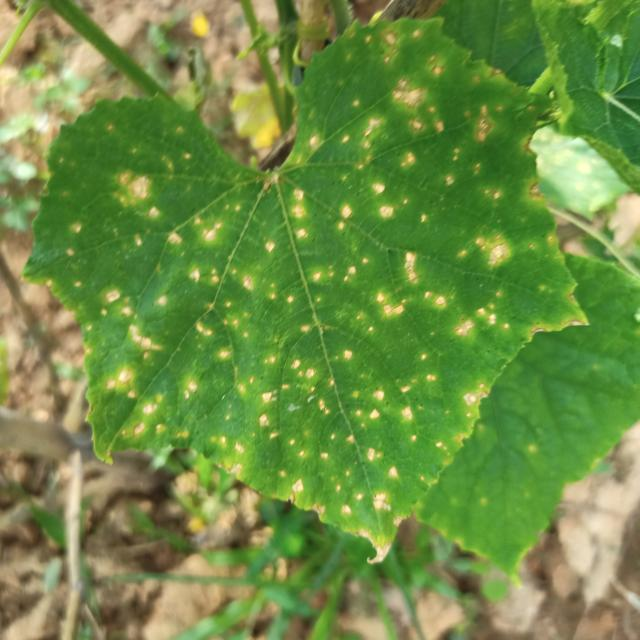disease_cucumber: (130, 284, 504, 518), (297, 28, 556, 314), (55, 141, 335, 395)
